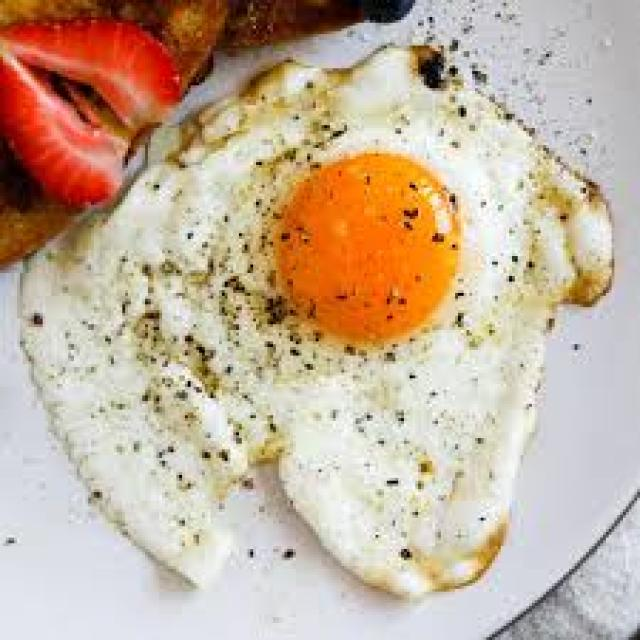Egg: (21, 45, 612, 596)
